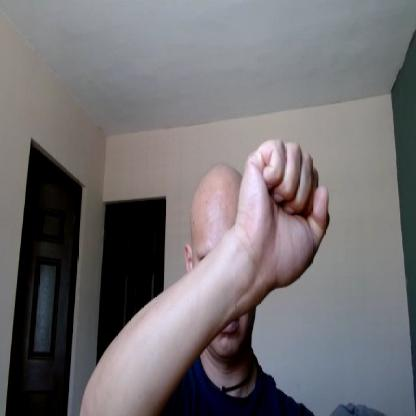S: (238, 138, 332, 281)
